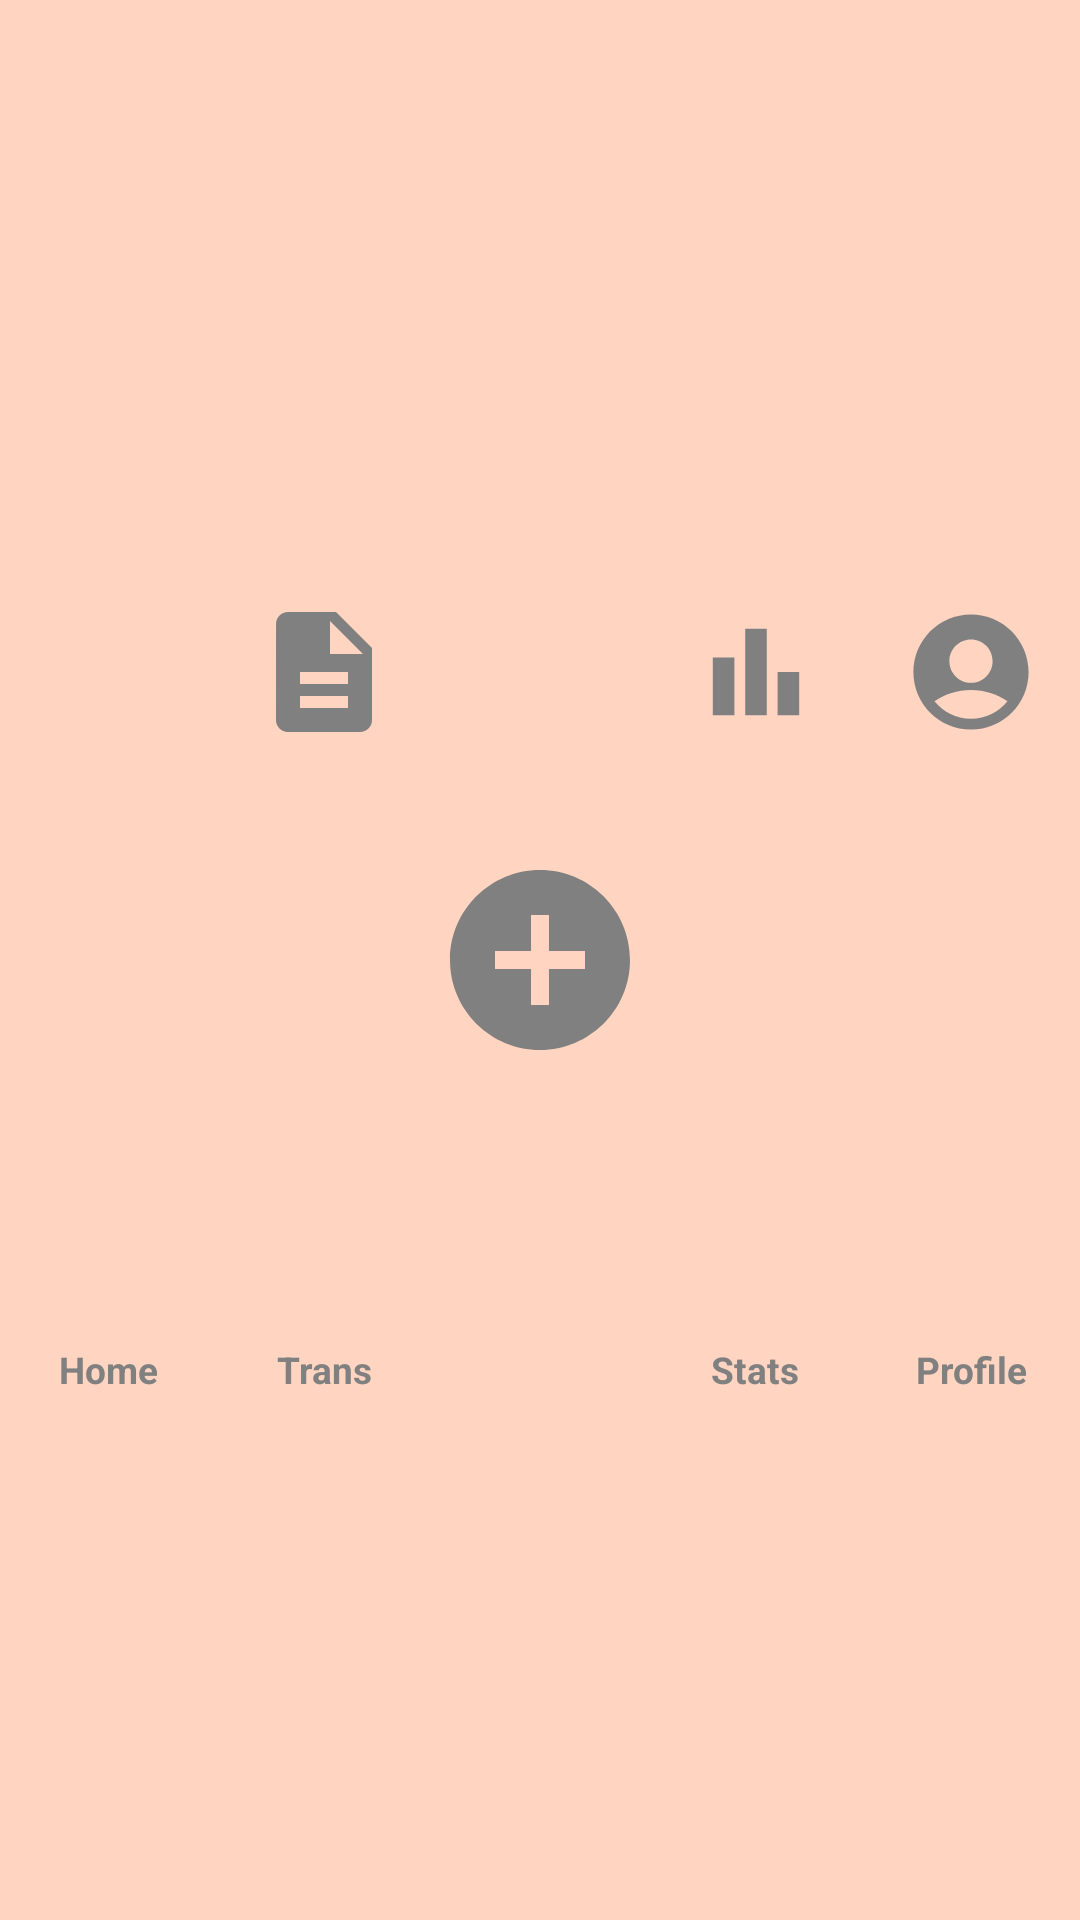

Where icons sit on this 1080×1920 app screen, as [left=x1, top=y1, right=x2, bottom=y2]:
account circle: [left=913, top=614, right=1029, bottom=730]
add circle: [left=450, top=870, right=630, bottom=1050]
bar chart: [left=712, top=628, right=800, bottom=716]
description: [left=276, top=612, right=372, bottom=732]
